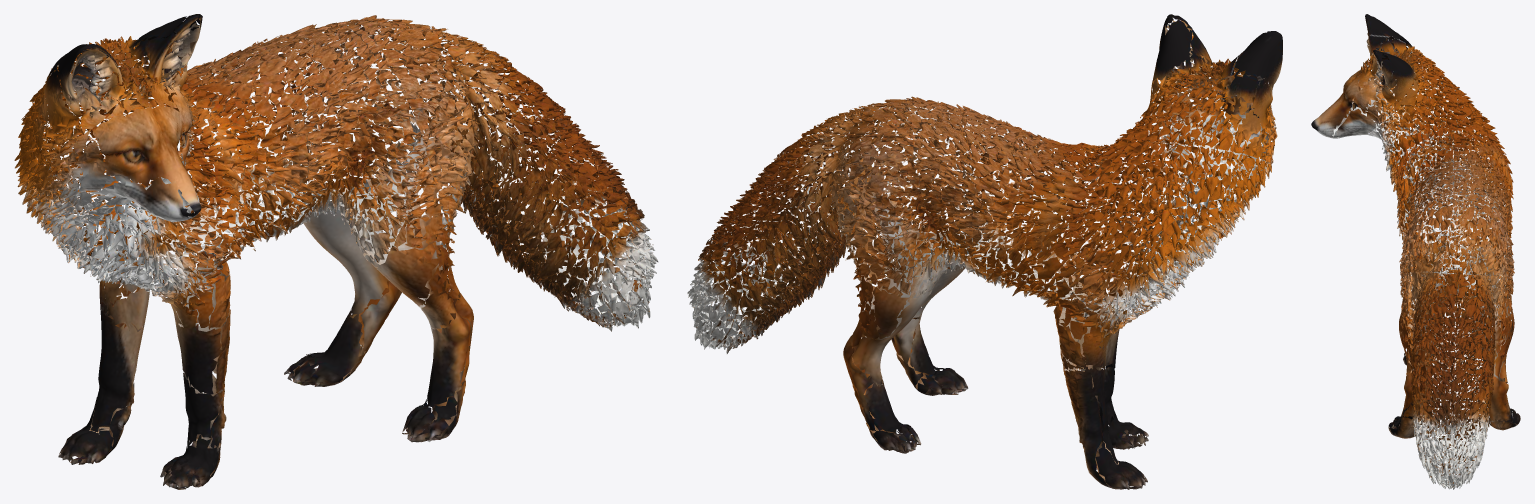
Rendered from wild_life_red_fox_optimized.glb.
The picture shows the model from 3 angles, left to right: view 1: azimuth 30°, elevation 25°; view 2: azimuth 150°, elevation 25°; view 3: azimuth 270°, elevation 25°; orthographic projection. The views are drawn at different scales.
Bounding box in the file's own units: 1.91 × 1.39 × 0.8609.
1 material, 1 textured.
